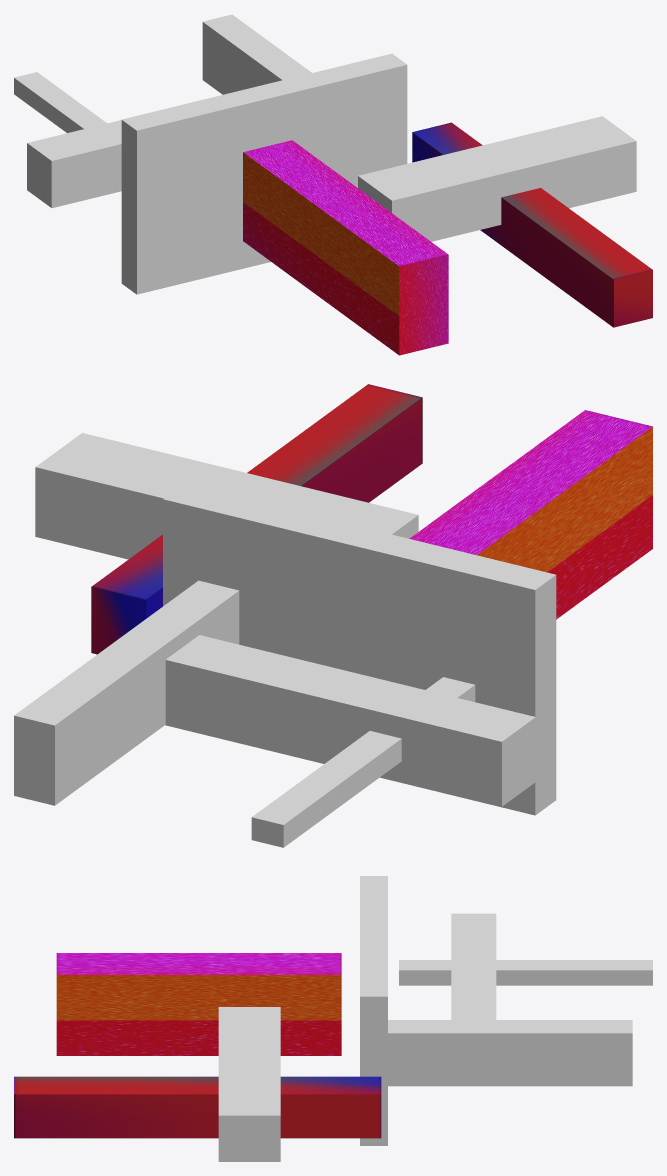
The model's file is Marker_30_Cube2.fbx.
The picture shows the model from 3 angles, top to bottom: view 1: azimuth 30°, elevation 25°; view 2: azimuth 150°, elevation 25°; view 3: azimuth 270°, elevation 25°; orthographic projection. The views are drawn at different scales.
Visible parts, largest first — view 1: Cube.006, Cube.007, Cube.004, Cube.005, Cube.001, Cube.002, Cube.003; view 2: Cube.006, Cube.001, Cube.007, Cube.002, Cube.004, Cube.005, Cube.003; view 3: Cube.007, Cube.005, Cube.002, Cube.004, Cube.006, Cube.003, Cube.001.
Boxes of the visible parts, left/top/right/bottom form: Cube.006: left=121, top=53, right=407, bottom=294; Cube.007: left=243, top=140, right=448, bottom=355; Cube.004: left=358, top=116, right=636, bottom=241; Cube.005: left=412, top=122, right=652, bottom=327; Cube.001: left=27, top=120, right=121, bottom=207; Cube.002: left=202, top=14, right=311, bottom=94; Cube.003: left=14, top=72, right=106, bottom=132; Cube.006: left=163, top=484, right=556, bottom=815; Cube.001: left=165, top=635, right=535, bottom=806; Cube.007: left=409, top=410, right=652, bottom=619; Cube.002: left=14, top=580, right=239, bottom=805; Cube.004: left=35, top=433, right=418, bottom=559; Cube.005: left=91, top=384, right=422, bottom=654; Cube.003: left=251, top=677, right=475, bottom=847; Cube.007: left=56, top=953, right=341, bottom=1055; Cube.005: left=14, top=1076, right=381, bottom=1138; Cube.002: left=388, top=1020, right=632, bottom=1086; Cube.004: left=218, top=1007, right=280, bottom=1161; Cube.006: left=360, top=876, right=387, bottom=1145; Cube.003: left=399, top=960, right=652, bottom=985; Cube.001: left=451, top=913, right=496, bottom=1019.
Size of the model in its own units: 562 by 193 by 746.
